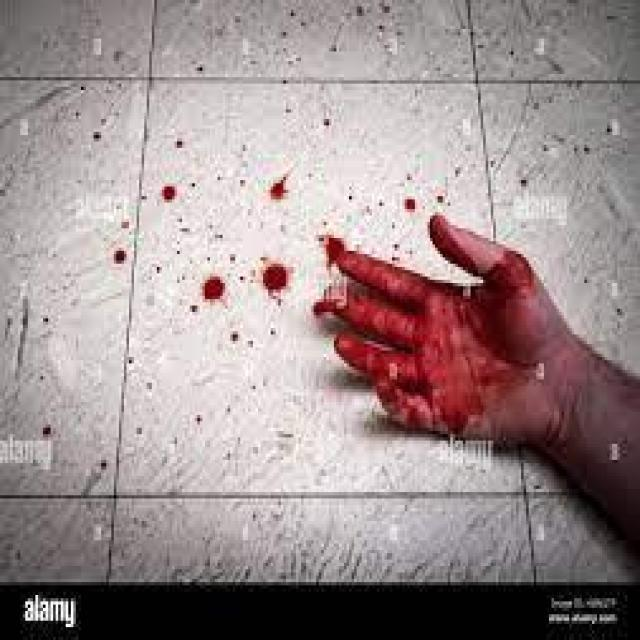flood: (312, 214, 548, 456)
